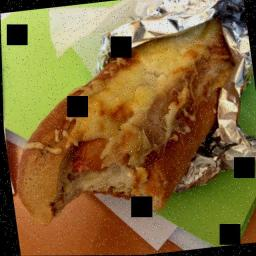hotdog: (0, 13, 252, 225)
